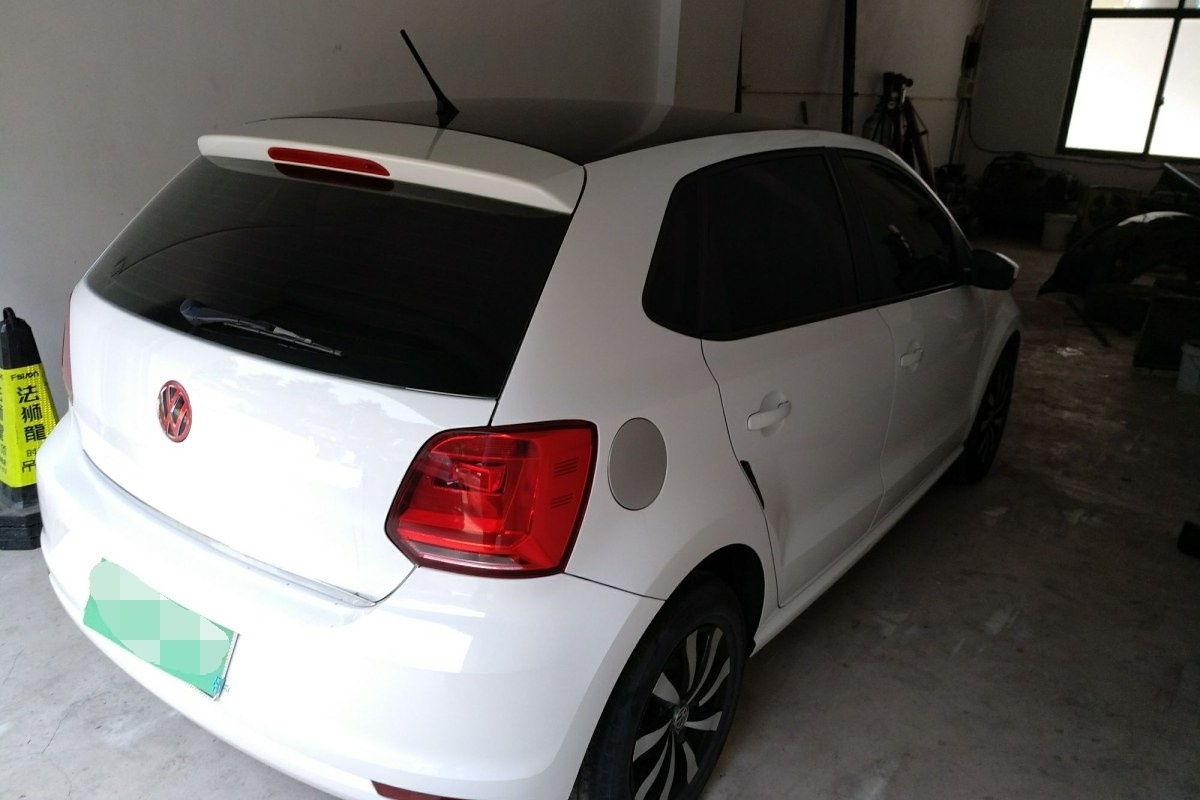family sedan: (42, 86, 1095, 787)
